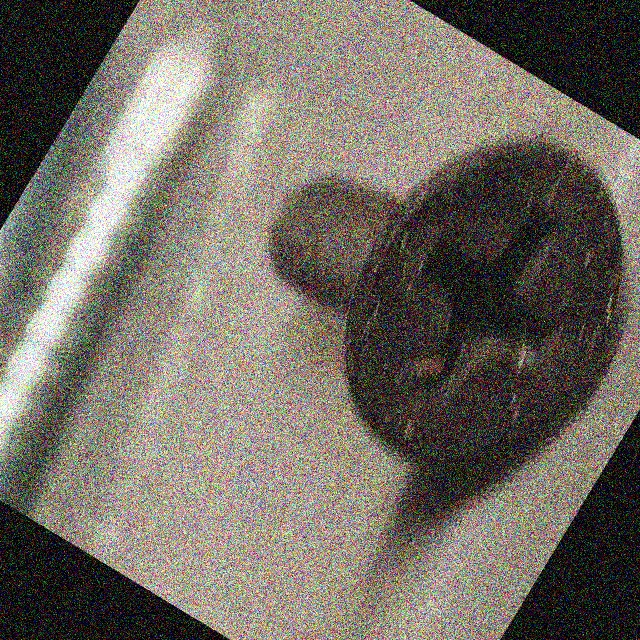phillips: (281, 89, 640, 526)
